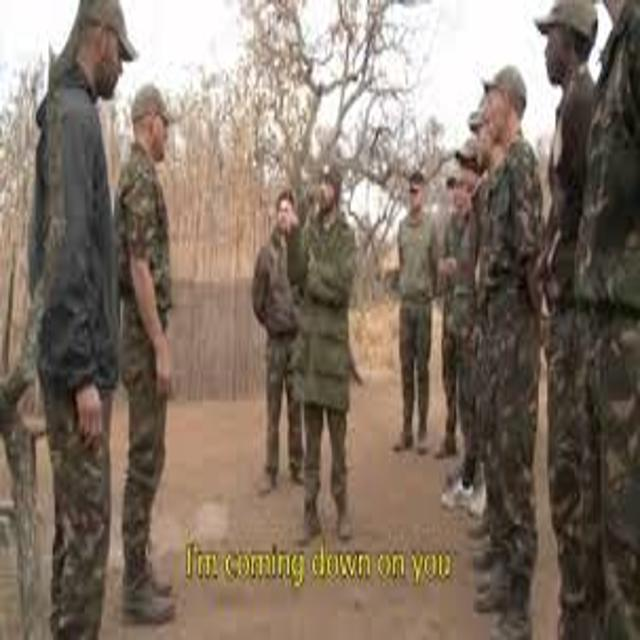ranger: (1, 1, 187, 640), (478, 1, 640, 639), (63, 65, 220, 640), (426, 47, 561, 640), (258, 146, 394, 562), (228, 163, 333, 537), (360, 141, 461, 488), (417, 146, 495, 489)
